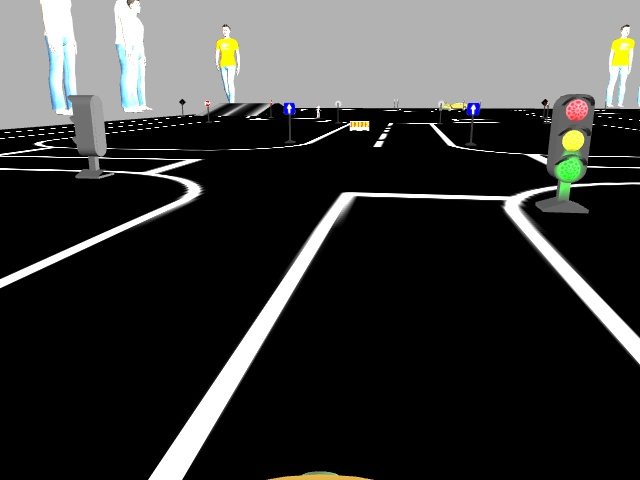ClosedRoadStand: (348, 120, 367, 130)
OneWay: (467, 102, 479, 114), (284, 102, 293, 113)
TrafficLight: (545, 94, 593, 180)
